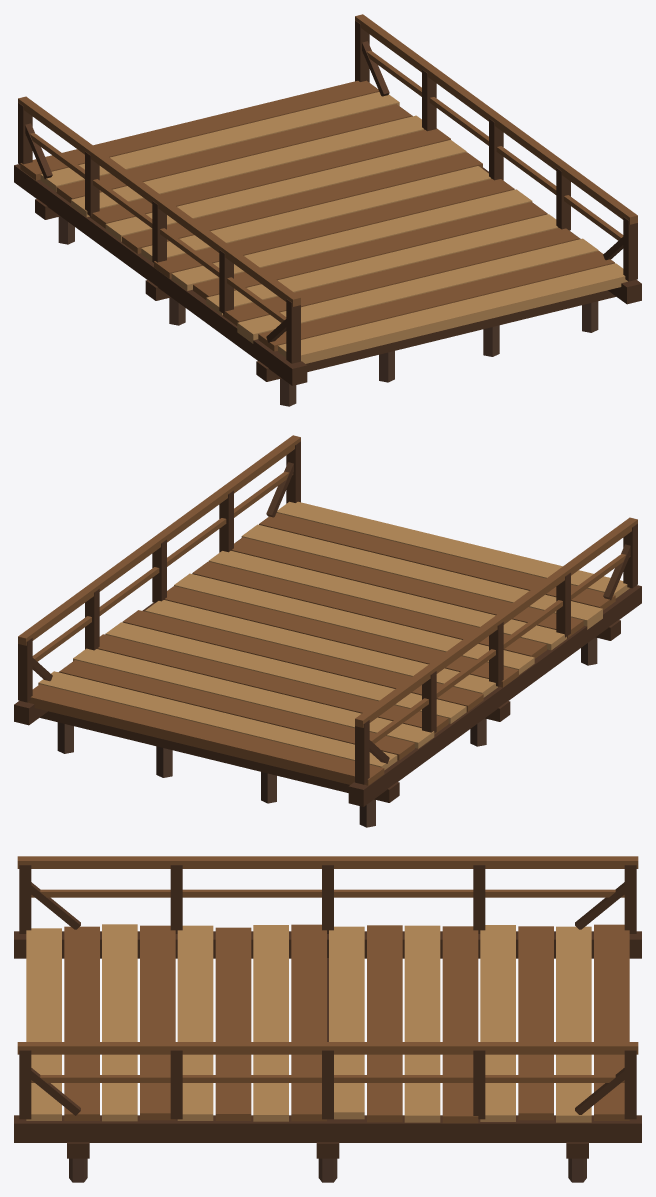
The model's file is Dorf_Bruecke.fbx.
3 renders of one model, top to bottom at view 1: azimuth 30°, elevation 25°; view 2: azimuth 150°, elevation 25°; view 3: azimuth 270°, elevation 25°, orthographic. The views are drawn at different scales.
Parts seen in each view (by area): view 1: Dorf_Bruecke; view 2: Dorf_Bruecke; view 3: Dorf_Bruecke.
Part boxes in pixels (x1,y1,x2,y2): Dorf_Bruecke: (14, 14, 641, 406); Dorf_Bruecke: (14, 435, 641, 827); Dorf_Bruecke: (14, 856, 641, 1182).
Size of the model in its own units: 6.1 by 2.11 by 8.3.
